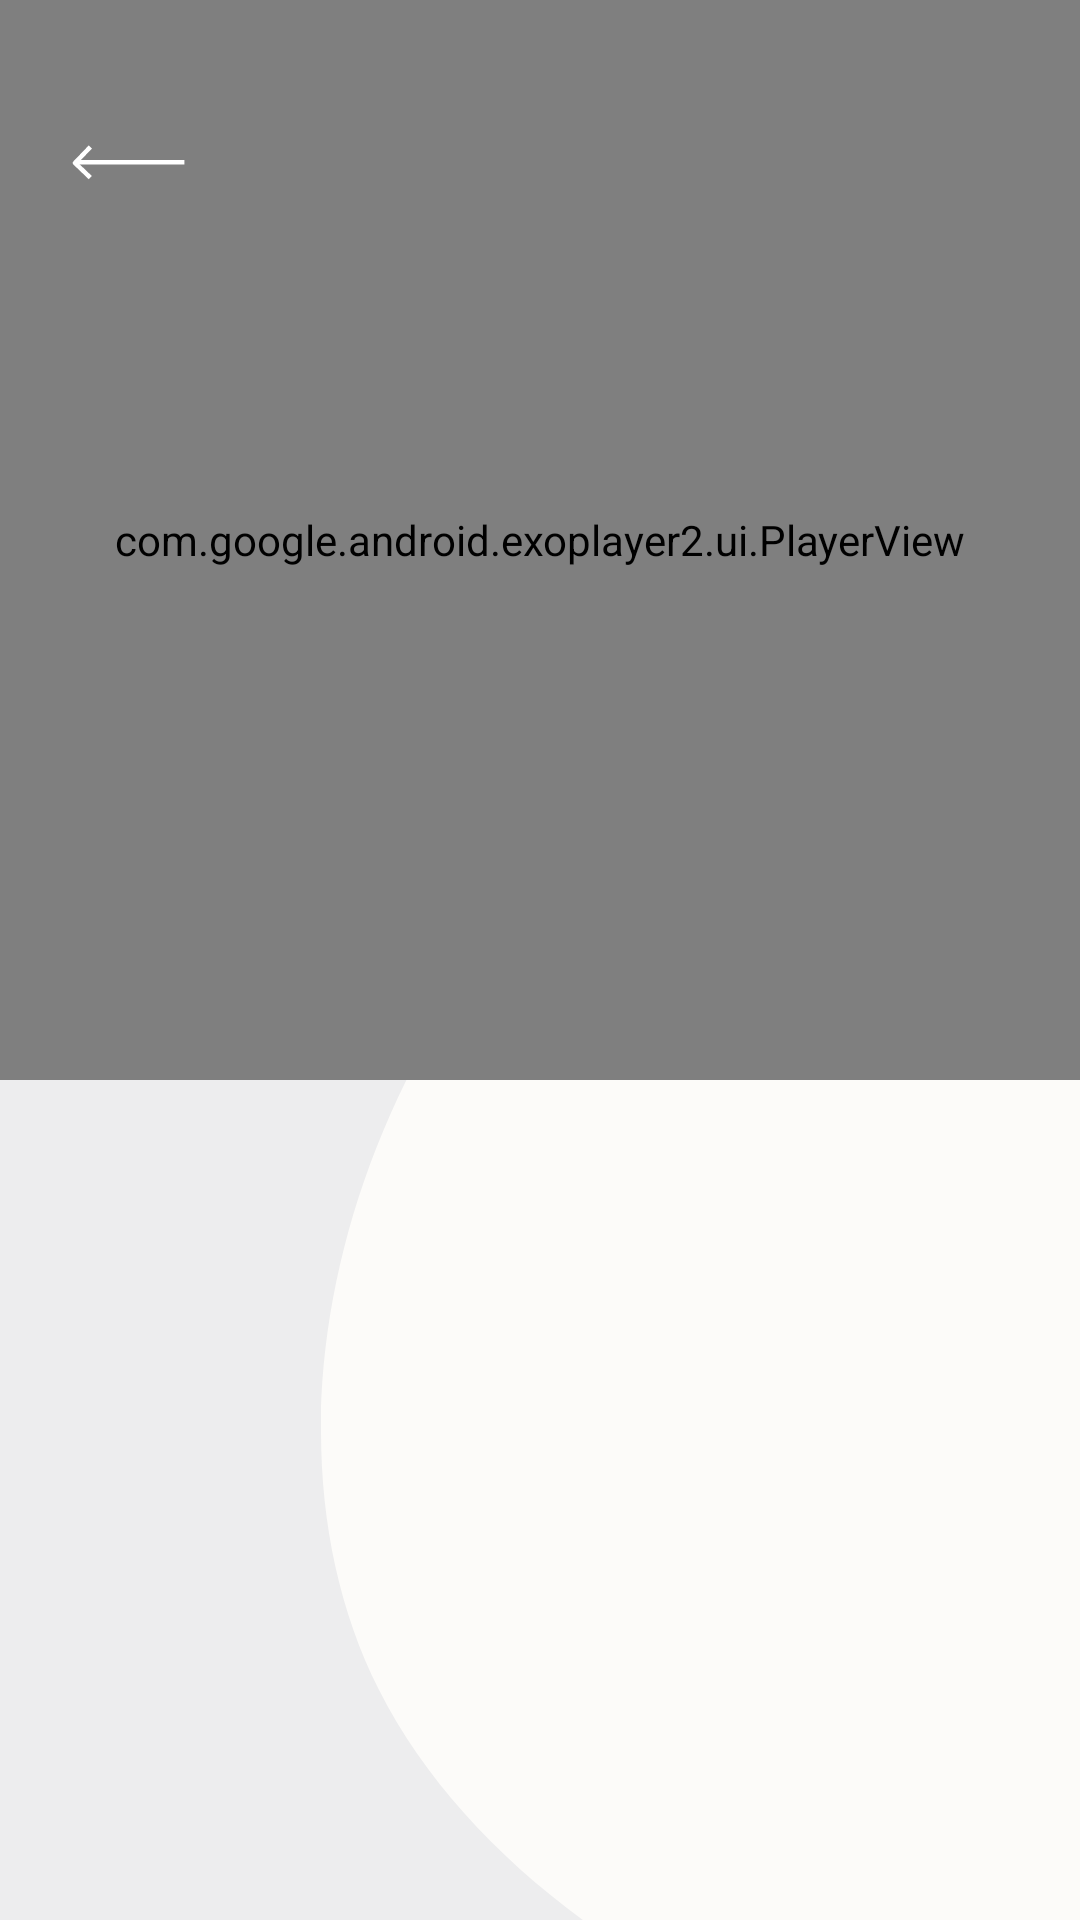

Icons on this 1080px×1920px Android screen, each with its box as (x1, y1, x2, y2):
Back arrow: (72, 145, 185, 179)
